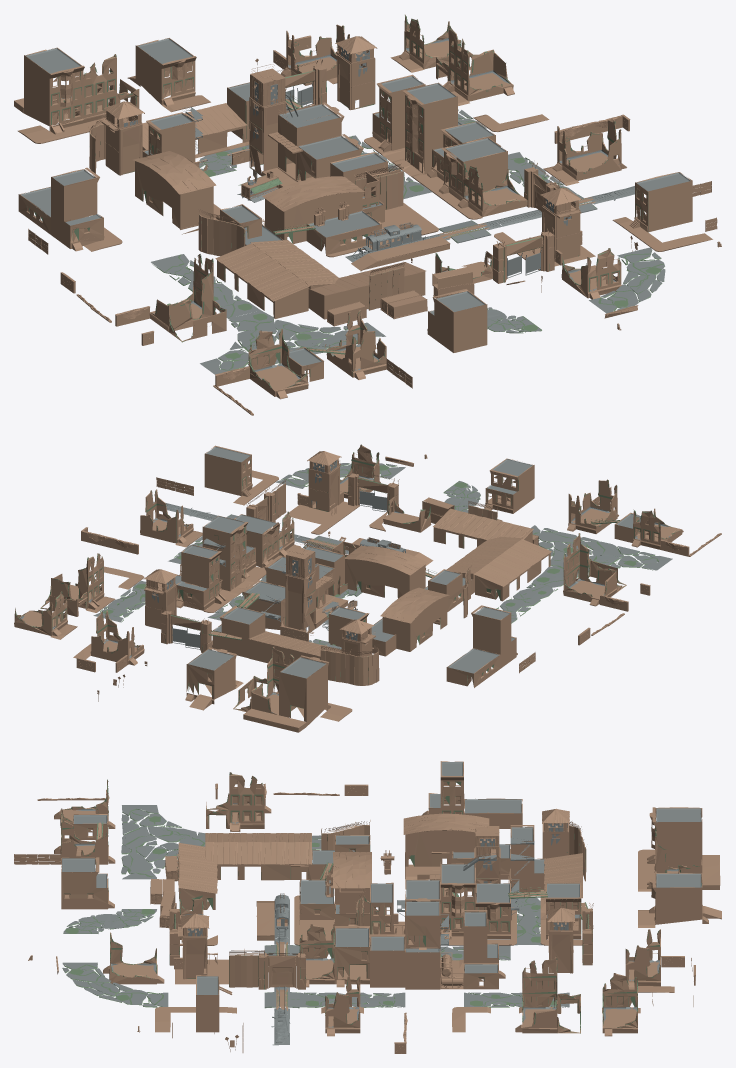
Rendered from compound-mid.glb.
The picture shows the model from 3 angles, top to bottom: view 1: azimuth 30°, elevation 25°; view 2: azimuth 150°, elevation 25°; view 3: azimuth 270°, elevation 25°; orthographic projection. The views are drawn at different scales.
Visible parts, largest first — view 1: shipping_container_900_a_junkyard, watch_tower_d_LOD0, spheretank_walkway_e_LOD0; view 2: shipping_container_900_a_junkyard, watch_tower_d_LOD0, spheretank_walkway_e_LOD0; view 3: shipping_container_900_a_junkyard, watch_tower_d_LOD0, spheretank_walkway_e_LOD0.
Part boxes in pixels (x1,y1,x2,y2): shipping_container_900_a_junkyard: (14,14,721,415); watch_tower_d_LOD0: (20,38,690,385); spheretank_walkway_e_LOD0: (26,15,664,388); shipping_container_900_a_junkyard: (14,445,721,732); watch_tower_d_LOD0: (20,446,672,712); spheretank_walkway_e_LOD0: (15,444,678,715); shipping_container_900_a_junkyard: (14,761,721,1053); watch_tower_d_LOD0: (62,762,701,1045); spheretank_walkway_e_LOD0: (61,772,701,1033).
Bounding box in the file's own units: 157 × 35.46 × 181.
